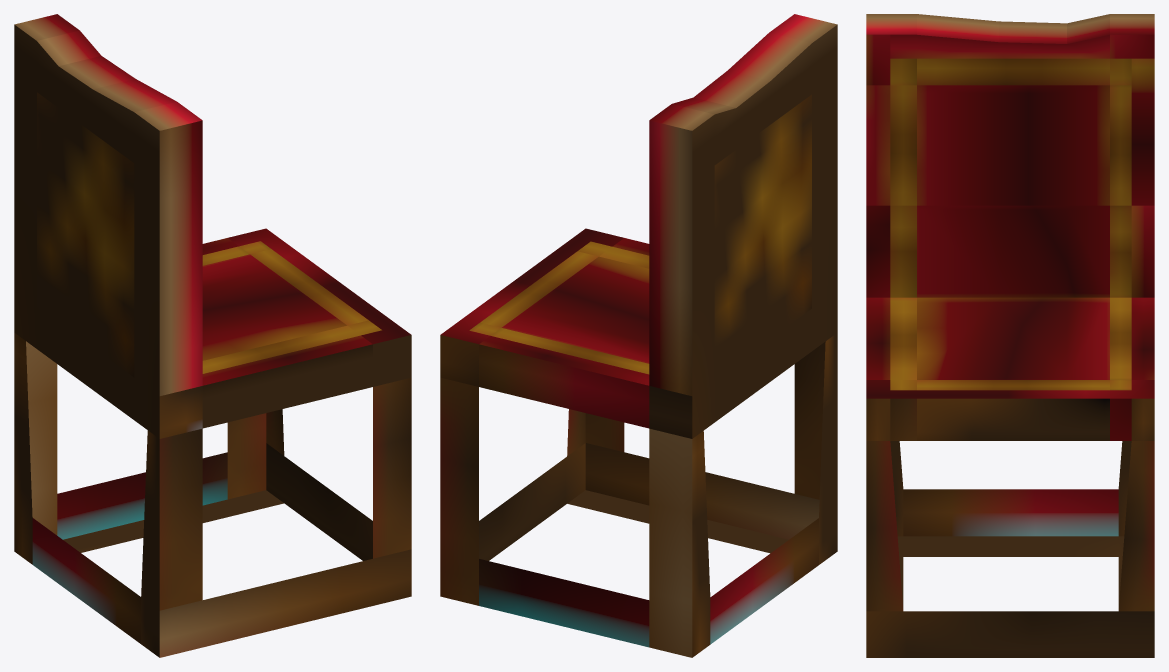
Rendered from chair_873x25.obj.
3 renders of one model, left to right at view 1: azimuth 30°, elevation 25°; view 2: azimuth 150°, elevation 25°; view 3: azimuth 270°, elevation 25°, orthographic.
Visible parts, largest first — view 1: Chair873x25; view 2: Chair873x25; view 3: Chair873x25.
Part boxes in pixels (bbox=[...]): Chair873x25: bbox=[14, 14, 411, 657]; Chair873x25: bbox=[440, 14, 837, 657]; Chair873x25: bbox=[866, 14, 1154, 657].
Bounding box in the file's own units: 1 × 2 × 1.
